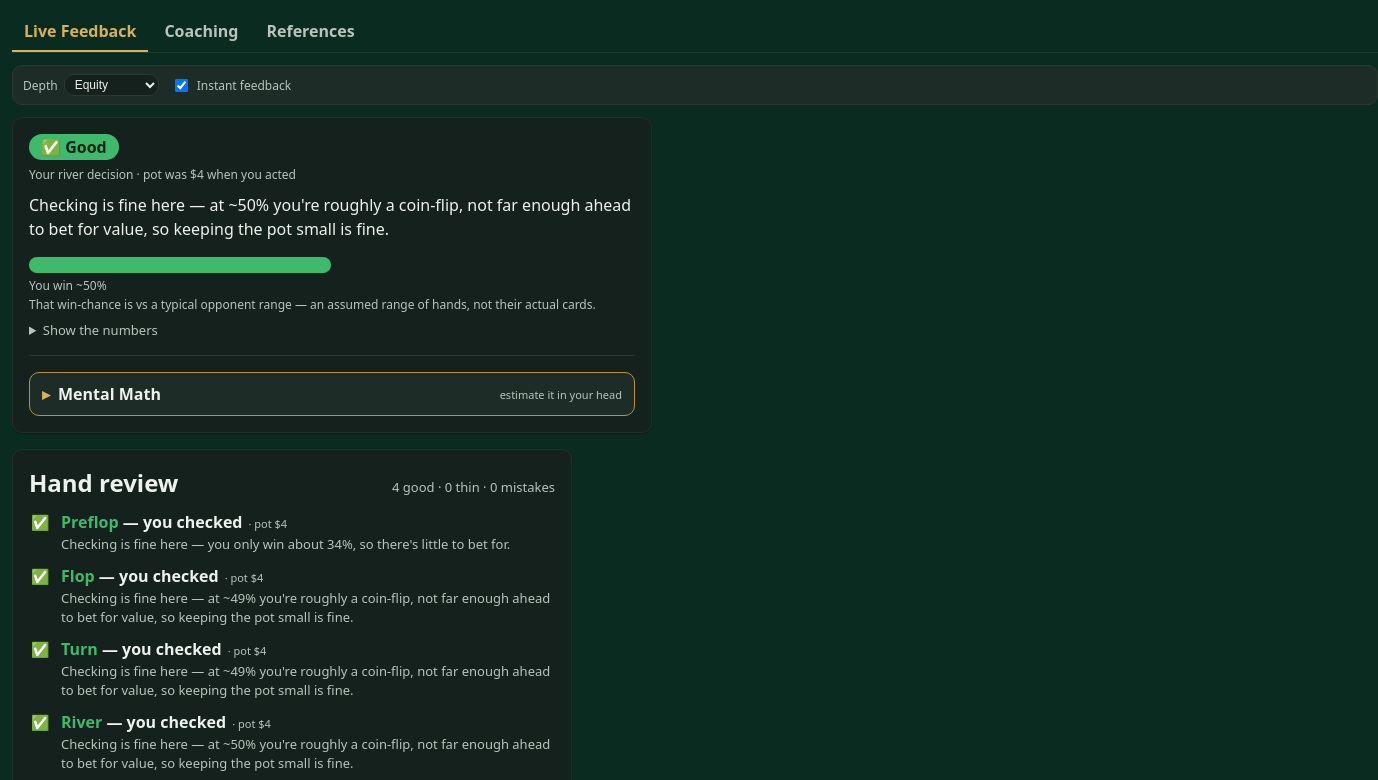
Test case: RightPanel › (iter-14 #1) an in-play switch to Conceptual makes the panel digit-free for an ALREADY-DECIDED spot
The width and height of the screenshot is (1378, 780).
Check: the element with test id "equity-bar" is shown, box [29,257,635,273]
Select "Conceptual" in the dropdown with test id "inplay-depth": (111, 85) [64,74,159,96]
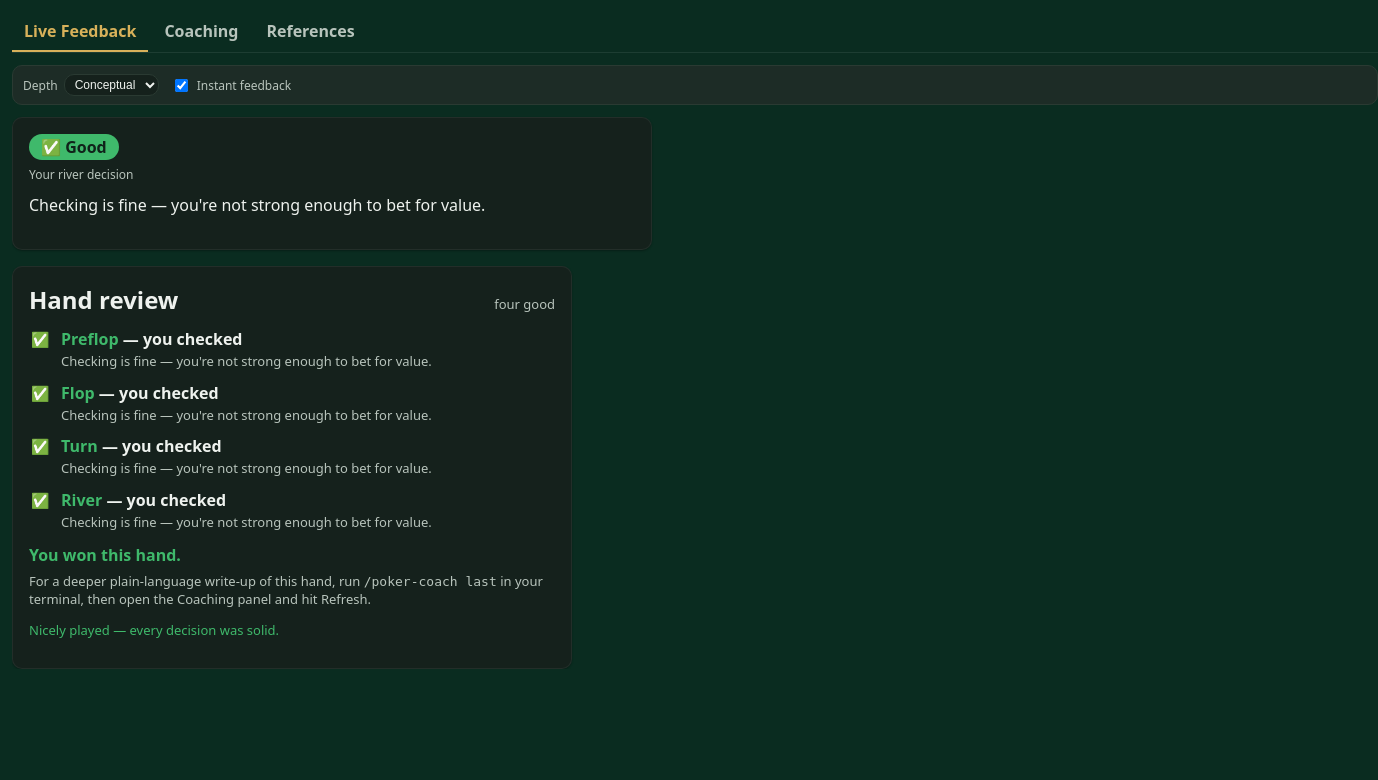
Check: the element with test id "equity-bar" is gone
